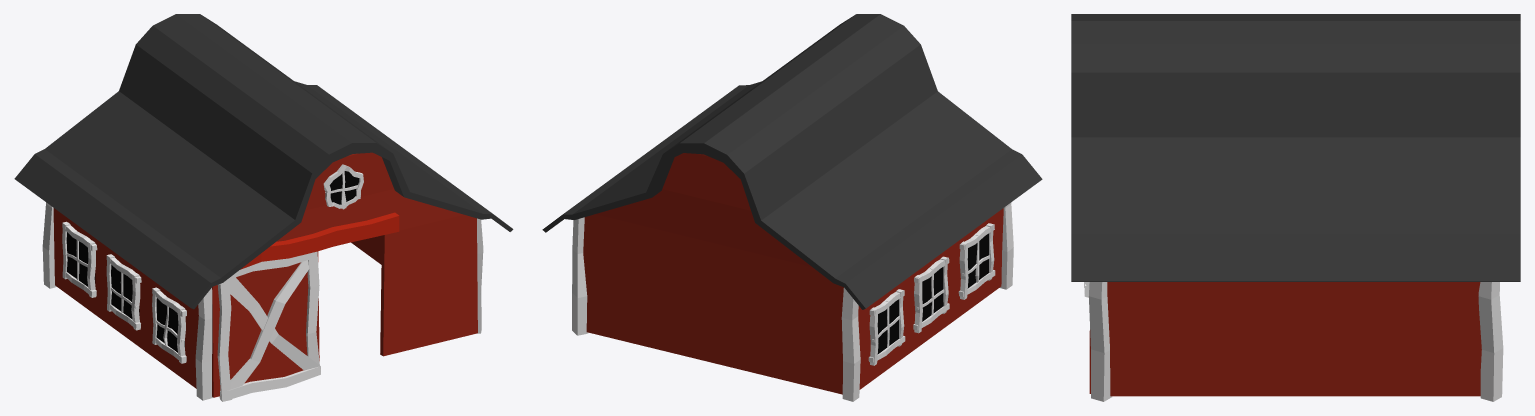
Rendered from Barn.fbx.
3 renders of one model, left to right at view 1: azimuth 30°, elevation 25°; view 2: azimuth 150°, elevation 25°; view 3: azimuth 270°, elevation 25°, orthographic. The views are drawn at different scales.
Parts seen in each view (by area): view 1: Barn; view 2: Barn; view 3: Barn.
Boxes of the visible parts, box(x1,y1,x2,y2) form: Barn: box(14, 14, 513, 401); Barn: box(542, 14, 1042, 401); Barn: box(1071, 14, 1520, 401).
Size of the model in its own units: 635 by 438 by 601.
